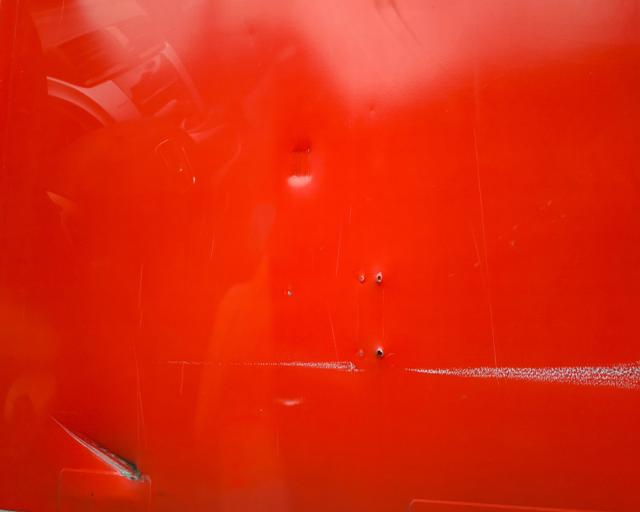scratch: (276, 357, 640, 393)
